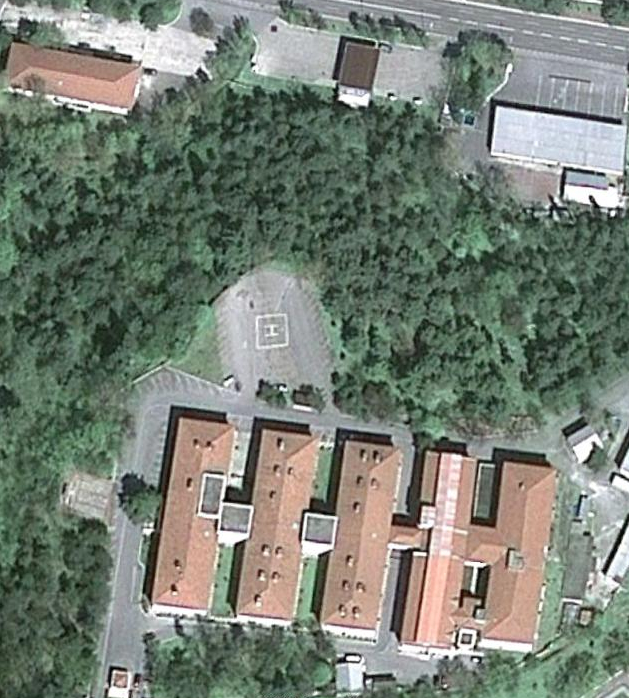heliport: (261, 320, 282, 338)
